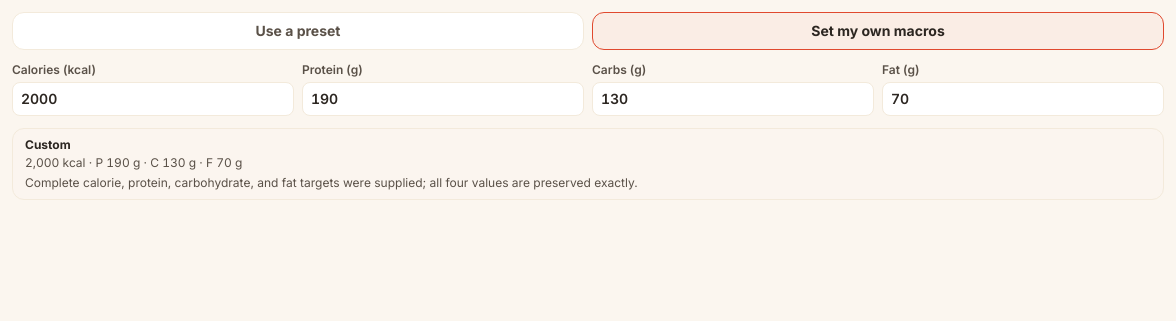
Test case: MacroTargetEditor preset confirmation › keeps a custom editor open and focuses an inline confirmation
The image size is (1176, 321).
Click the button "Use a preset": click(298, 31) x1=12 y1=12 x2=584 y2=50
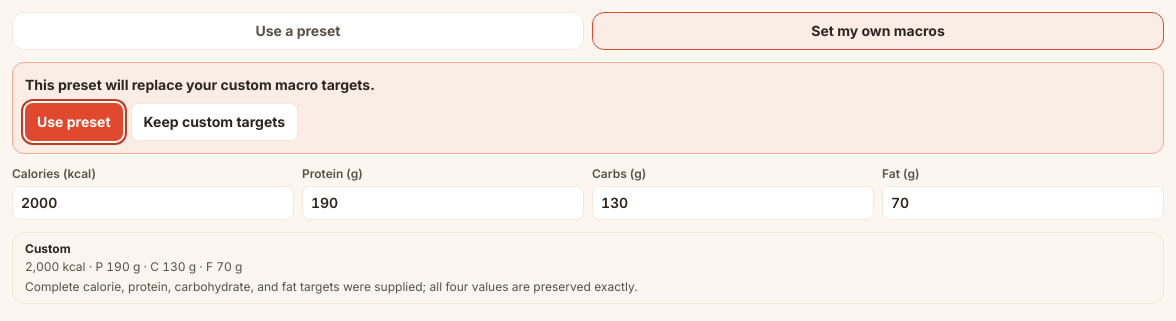
expect the message shows "This preset will replace your custom macro targets.": met, box x1=25 y1=76 x2=375 y2=93
